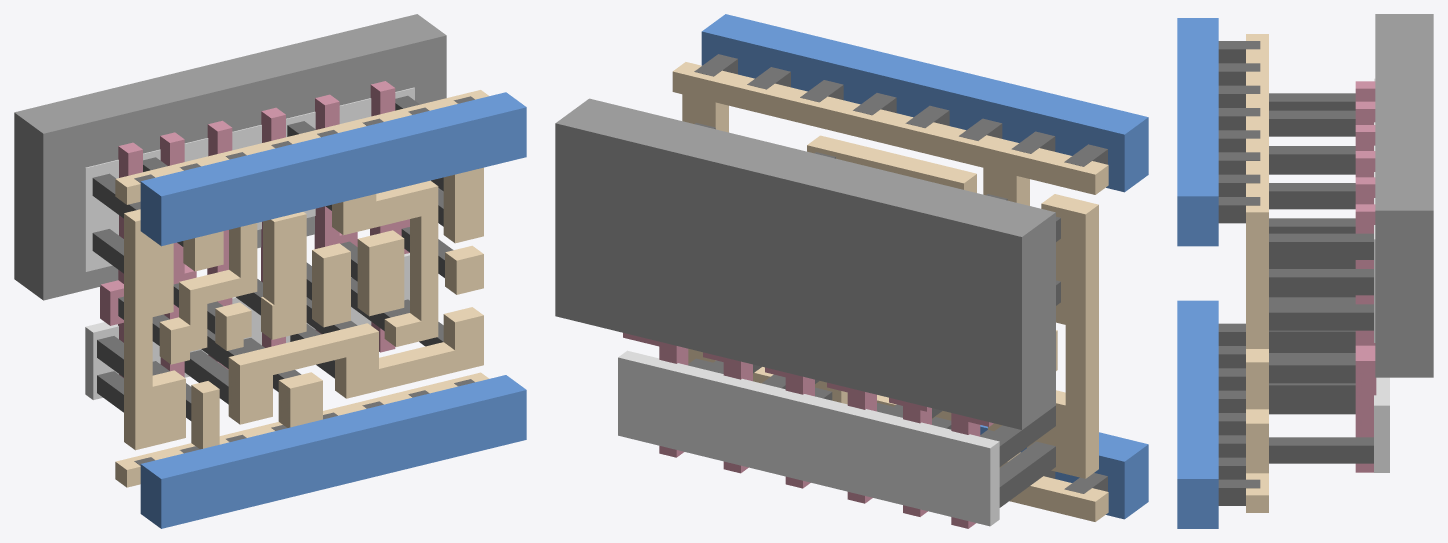
Rendered from sky130_fd_sc_hd__o32a_1.gds.gltf.
3 views of the same model, side by side, from view 1: azimuth 30°, elevation 25°; view 2: azimuth 150°, elevation 25°; view 3: azimuth 270°, elevation 25° (orthographic). The views are drawn at different scales.
Parts seen in each view (by area): view 1: sky130_fd_sc_hd__o32a_1_li1, sky130_fd_sc_hd__o32a_1_met1, sky130_fd_sc_hd__o32a_1_nwell, sky130_fd_sc_hd__o32a_1_licon, sky130_fd_sc_hd__o32a_1_poly, sky130_fd_sc_hd__o32a_1_diff, sky130_fd_sc_hd__o32a_1_mcon; view 2: sky130_fd_sc_hd__o32a_1_nwell, sky130_fd_sc_hd__o32a_1_li1, sky130_fd_sc_hd__o32a_1_diff, sky130_fd_sc_hd__o32a_1_met1, sky130_fd_sc_hd__o32a_1_mcon, sky130_fd_sc_hd__o32a_1_licon, sky130_fd_sc_hd__o32a_1_poly; view 3: sky130_fd_sc_hd__o32a_1_licon, sky130_fd_sc_hd__o32a_1_nwell, sky130_fd_sc_hd__o32a_1_met1, sky130_fd_sc_hd__o32a_1_mcon, sky130_fd_sc_hd__o32a_1_li1, sky130_fd_sc_hd__o32a_1_poly, sky130_fd_sc_hd__o32a_1_diff.
Boxes of the visible parts, bbox=[...] form: sky130_fd_sc_hd__o32a_1_li1: bbox=[115, 90, 489, 487]; sky130_fd_sc_hd__o32a_1_met1: bbox=[140, 92, 526, 528]; sky130_fd_sc_hd__o32a_1_nwell: bbox=[14, 14, 446, 300]; sky130_fd_sc_hd__o32a_1_licon: bbox=[92, 95, 453, 420]; sky130_fd_sc_hd__o32a_1_poly: bbox=[100, 81, 409, 377]; sky130_fd_sc_hd__o32a_1_diff: bbox=[85, 87, 414, 399]; sky130_fd_sc_hd__o32a_1_mcon: bbox=[134, 96, 474, 465]; sky130_fd_sc_hd__o32a_1_nwell: bbox=[555, 98, 1055, 429]; sky130_fd_sc_hd__o32a_1_li1: bbox=[672, 62, 1108, 521]; sky130_fd_sc_hd__o32a_1_diff: bbox=[618, 350, 999, 526]; sky130_fd_sc_hd__o32a_1_met1: bbox=[701, 14, 1148, 519]; sky130_fd_sc_hd__o32a_1_mcon: bbox=[694, 54, 1107, 493]; sky130_fd_sc_hd__o32a_1_licon: bbox=[688, 123, 1060, 507]; sky130_fd_sc_hd__o32a_1_poly: bbox=[623, 333, 993, 528]; sky130_fd_sc_hd__o32a_1_licon: bbox=[1269, 93, 1373, 463]; sky130_fd_sc_hd__o32a_1_nwell: bbox=[1375, 14, 1433, 377]; sky130_fd_sc_hd__o32a_1_met1: bbox=[1177, 18, 1218, 528]; sky130_fd_sc_hd__o32a_1_mcon: bbox=[1218, 41, 1260, 505]; sky130_fd_sc_hd__o32a_1_li1: bbox=[1246, 34, 1268, 512]; sky130_fd_sc_hd__o32a_1_poly: bbox=[1355, 81, 1376, 472]; sky130_fd_sc_hd__o32a_1_diff: bbox=[1374, 78, 1389, 472].
Size of the model in its own units: 4.06 by 3.2 by 2.24.
